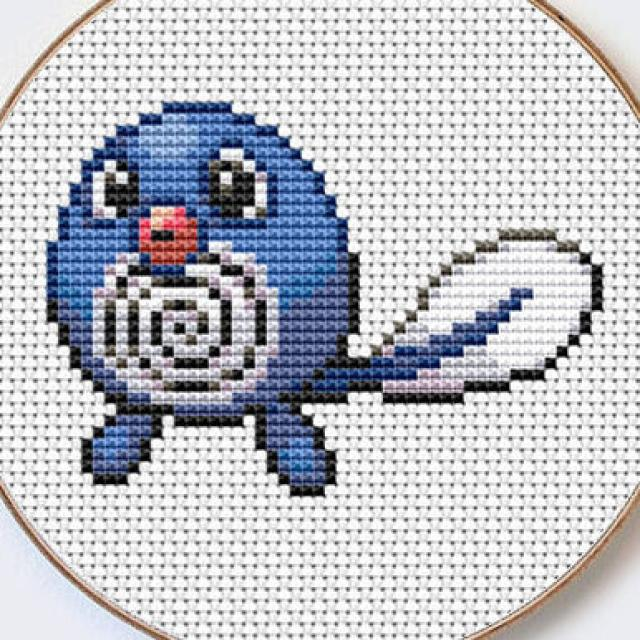Poliwag: (52, 93, 450, 499)
